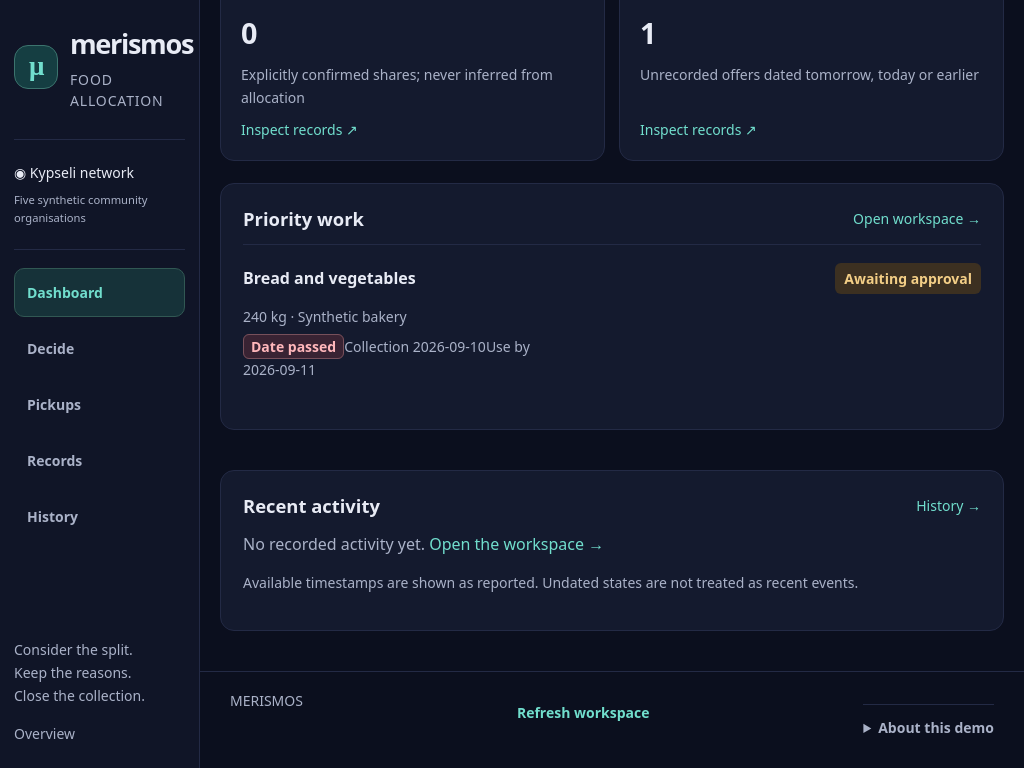
restarts only after explicit confirmation
(page scrolled)
Click the heading "About this demo" at (936, 728), box 878,718 -> 994,737
(page scrolled)
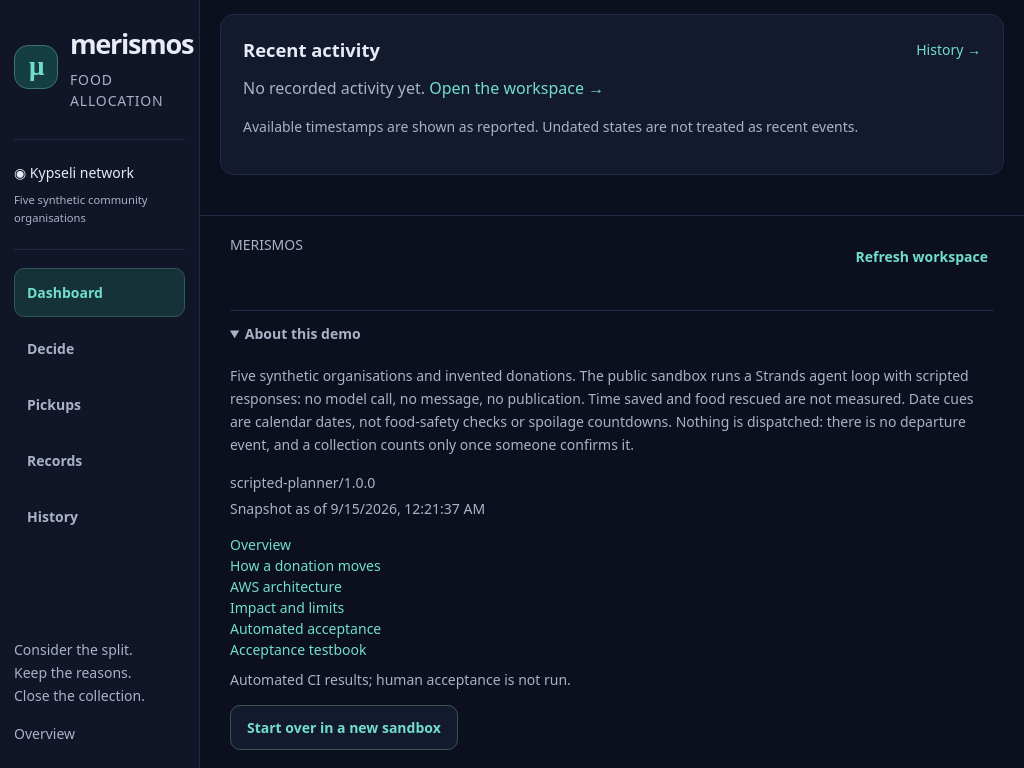
Click the button "Start over in a new sandbox" at (344, 727), box 230,705 -> 458,750
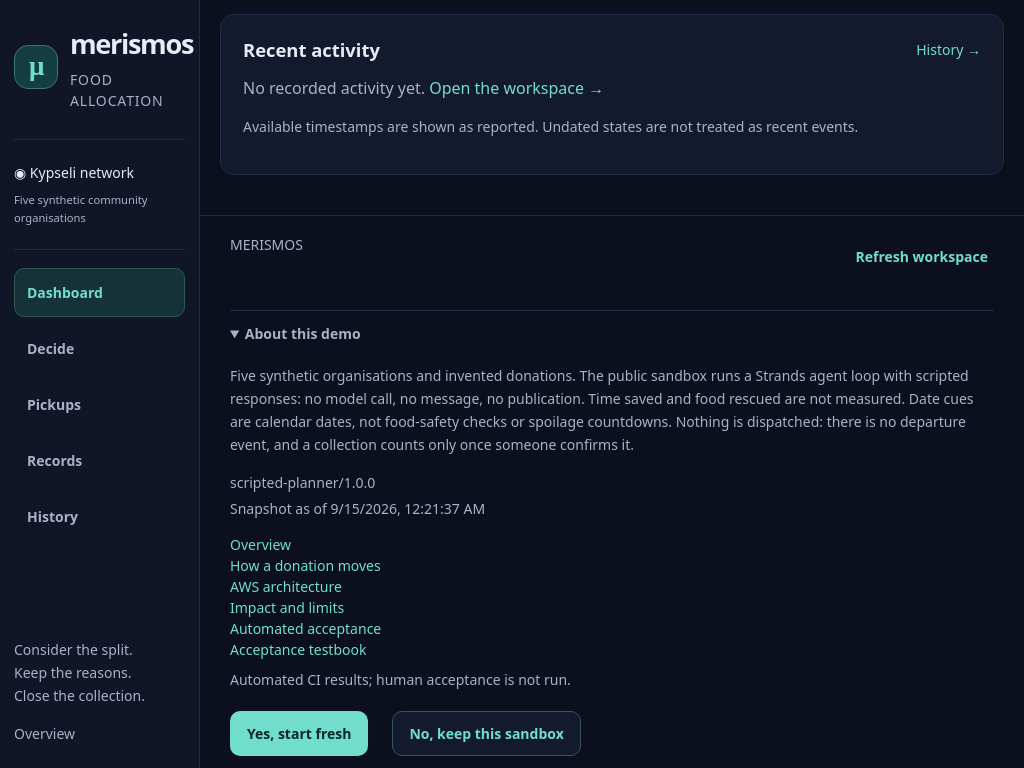
Click the button "No, keep this sandbox" at (487, 733), box 392,711 -> 581,756
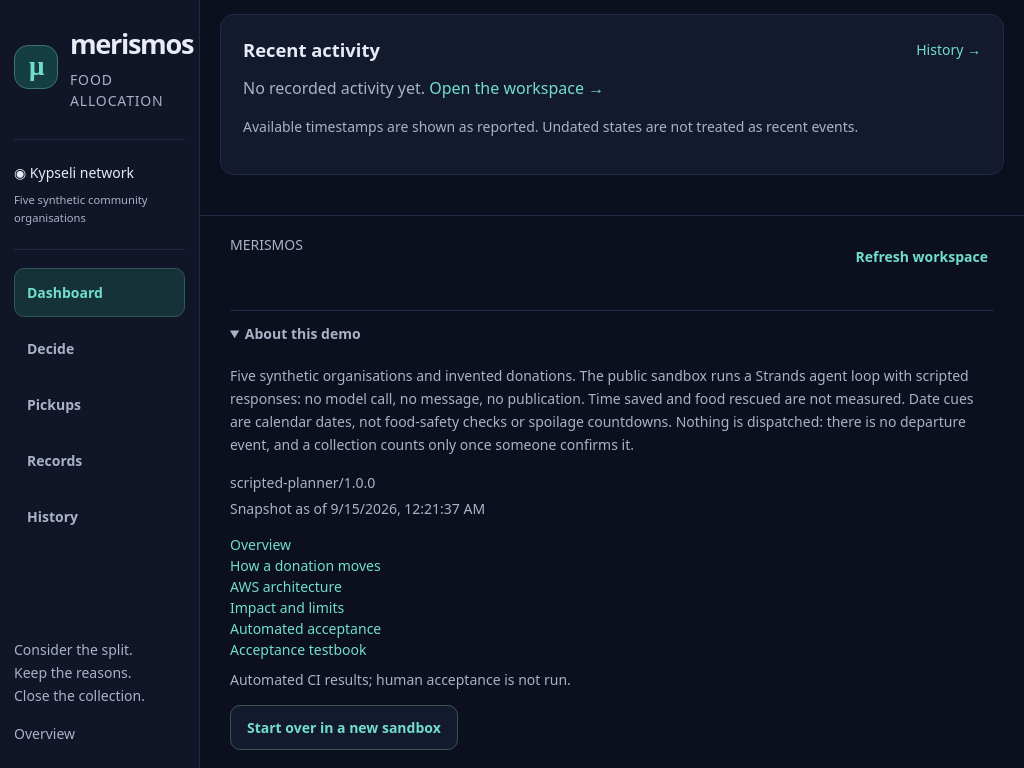
Click the button "Start over in a new sandbox" at (344, 727), box 230,705 -> 458,750
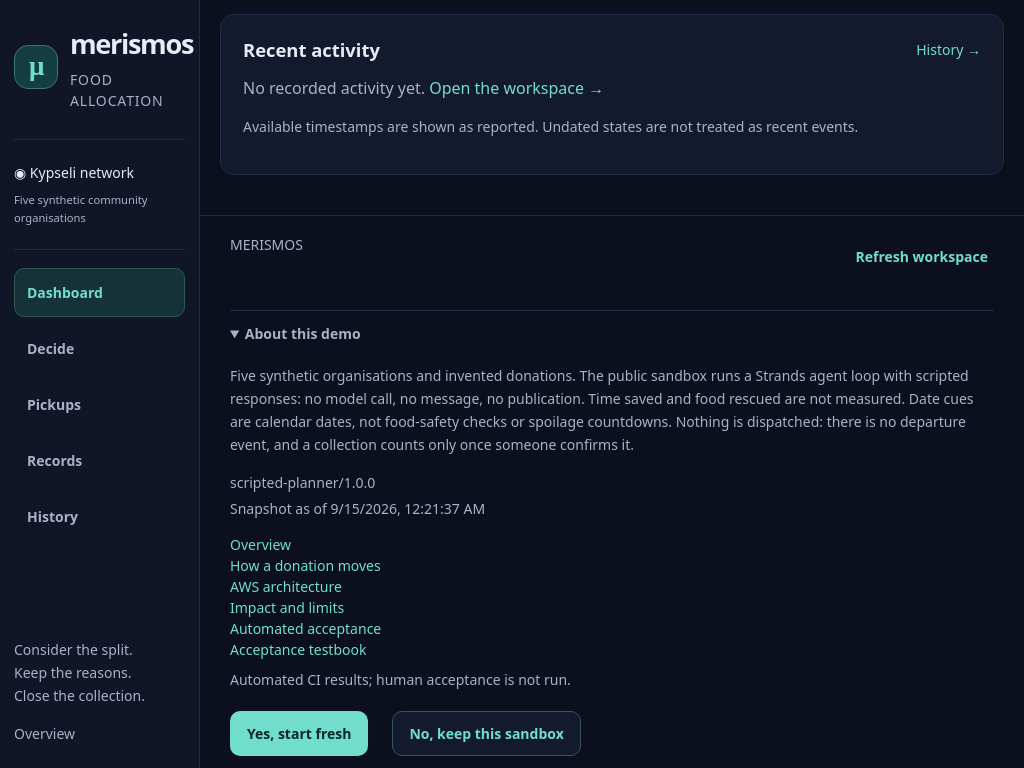
Click the button "Yes, start fresh" at (299, 733), box 230,711 -> 368,756
(page scrolled)
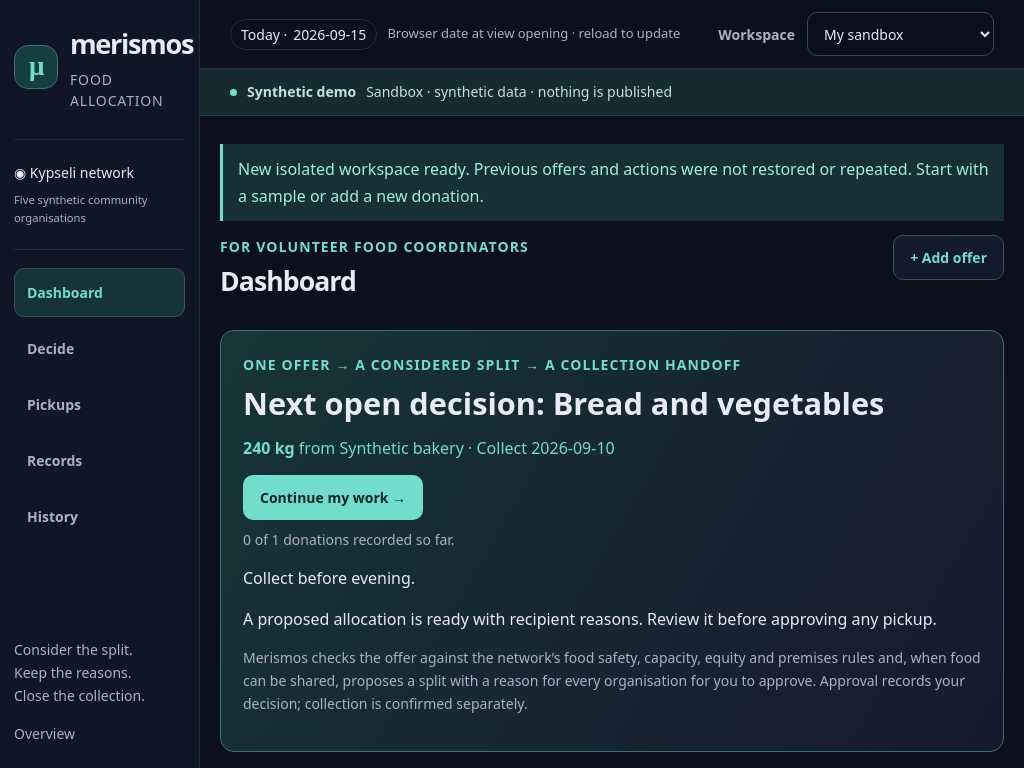
Expected: the text "New isolated workspace ready" is shown, 238,158 -> 989,207
